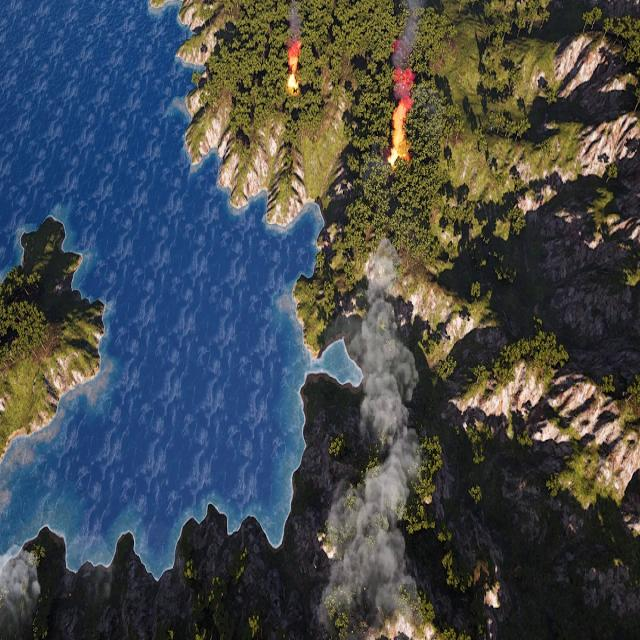fire: (388, 101, 410, 166), (286, 46, 300, 92)
smoke: (322, 232, 430, 638), (0, 440, 40, 638), (389, 0, 437, 103), (0, 546, 40, 632), (284, 0, 303, 65)
